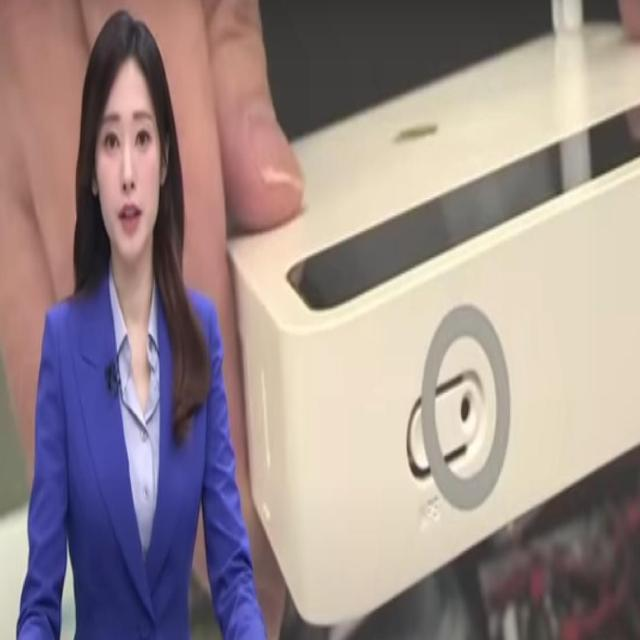hidden camera: (456, 382, 477, 435)
